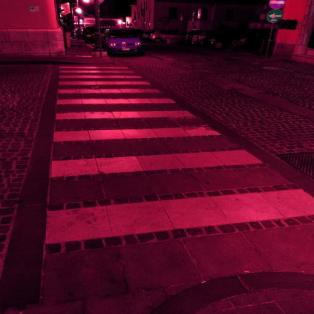Paso de Cebra: (40, 108, 240, 146), (53, 78, 166, 96)
